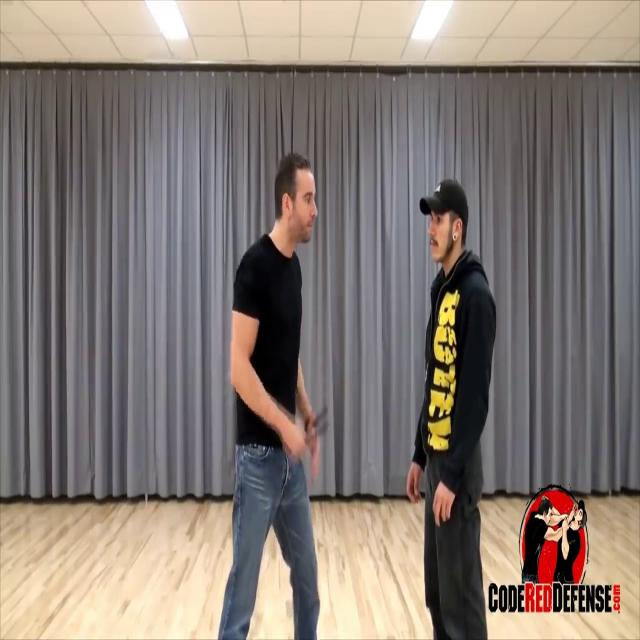Knife_Handle: (284, 422, 330, 454)
